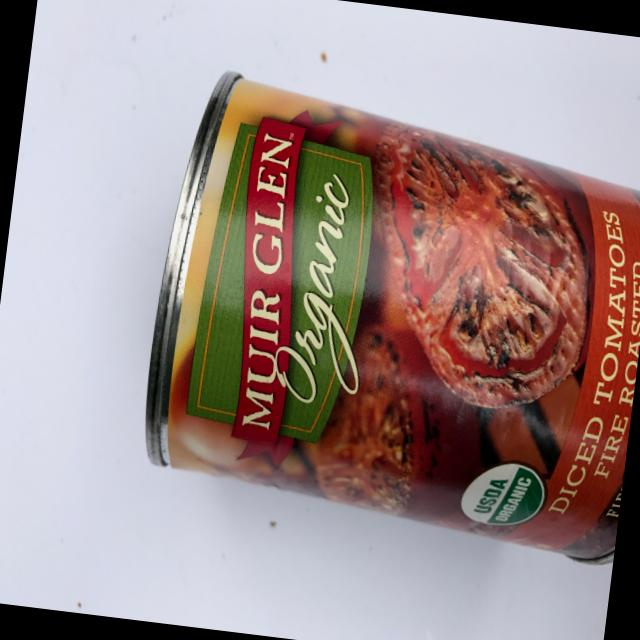Metal: (127, 54, 640, 585)
